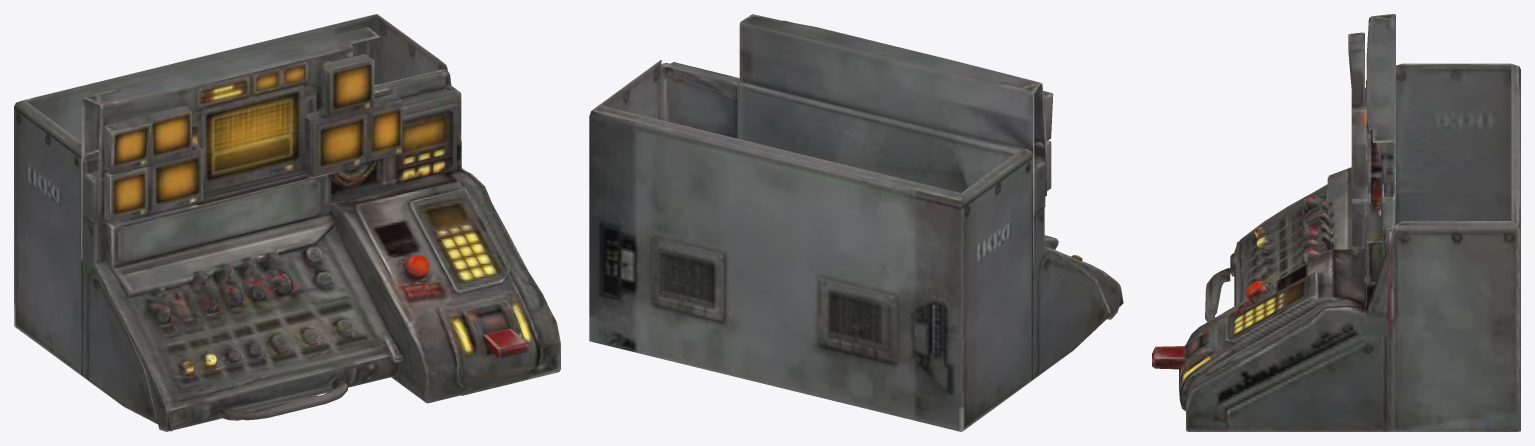
File: zone-control.glb
The picture shows the model from 3 angles, left to right: view 1: azimuth 30°, elevation 25°; view 2: azimuth 150°, elevation 25°; view 3: azimuth 270°, elevation 25°; orthographic projection. The views are drawn at different scales.
Size of the model in its own units: 1.91 by 1.4 by 1.82.
1 material, 1 textured.
